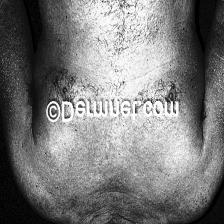Non-Cancerous Skin Condition: (20, 54, 104, 214), (121, 128, 212, 214)
